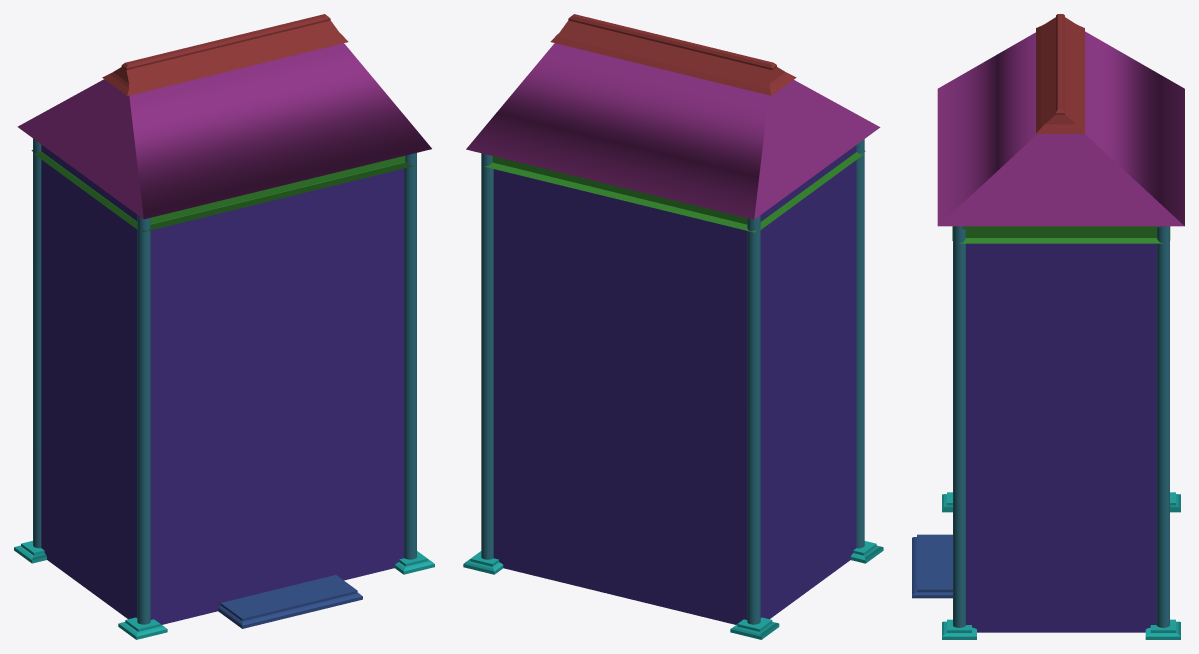
File: Ornements_bâtiments.fbx
3 renders of one model, left to right at view 1: azimuth 30°, elevation 25°; view 2: azimuth 150°, elevation 25°; view 3: azimuth 270°, elevation 25°, orthographic. The views are drawn at different scales.
Visible parts, largest first — view 1: Base 3 cases, MSH_Toit_triangulaire, MSH_coin3, MSH_Ornement_Toit, MSH_Frise7, MSH_Marches_portes, MSH_Base_pilone_découpée4; view 2: Base 3 cases, MSH_Toit_triangulaire, MSH_coin3, MSH_Ornement_Toit, MSH_Frise7, MSH_Base_pilone_découpée4; view 3: Base 3 cases, MSH_Toit_triangulaire, MSH_coin3, MSH_Ornement_Toit, MSH_Frise7, MSH_Marches_portes, MSH_Base_pilone_découpée4.
Part boxes in pixels (<box>): Base 3 cases: <box>41,144,404,624</box>; MSH_Toit_triangulaire: <box>17,43,431,219</box>; MSH_coin3: <box>33,138,416,624</box>; MSH_Ornement_Toit: <box>102,14,348,95</box>; MSH_Frise7: <box>31,150,413,231</box>; MSH_Marches_portes: <box>218,575,362,628</box>; MSH_Base_pilone_découpée4: <box>14,541,434,639</box>; Base 3 cases: <box>493,145,856,624</box>; MSH_Toit_triangulaire: <box>466,43,880,219</box>; MSH_coin3: <box>481,139,864,624</box>; MSH_Ornement_Toit: <box>550,14,796,95</box>; MSH_Frise7: <box>484,151,865,232</box>; MSH_Base_pilone_découpée4: <box>463,541,883,639</box>; Base 3 cases: <box>966,243,1156,632</box>; MSH_Toit_triangulaire: <box>937,31,1184,226</box>; MSH_coin3: <box>953,226,1169,627</box>; MSH_Ornement_Toit: <box>1036,14,1084,133</box>; MSH_Frise7: <box>952,226,1170,243</box>; MSH_Marches_portes: <box>912,534,952,598</box>; MSH_Base_pilone_découpée4: <box>942,492,1180,639</box>.
Size of the model in its own units: 31.44 by 52.28 by 25.47.
